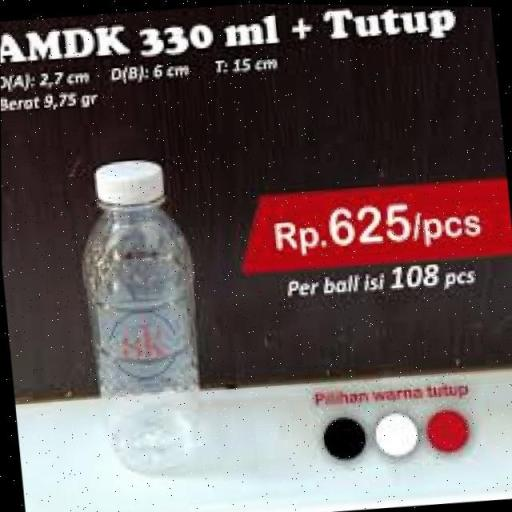plastic: (81, 157, 198, 470)
